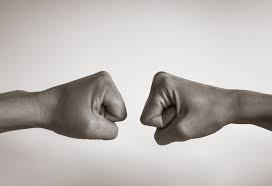rock: (138, 63, 232, 150), (46, 63, 133, 146)
